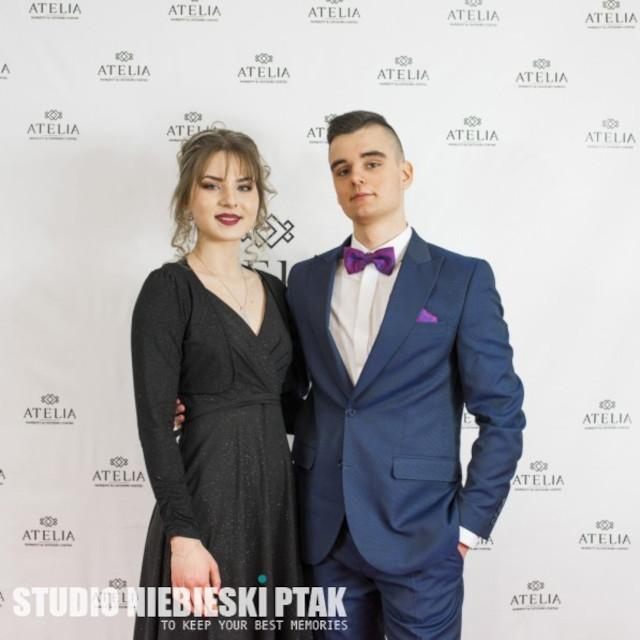kobieta: (131, 125, 297, 640)
mezczyzna: (290, 110, 523, 640)
